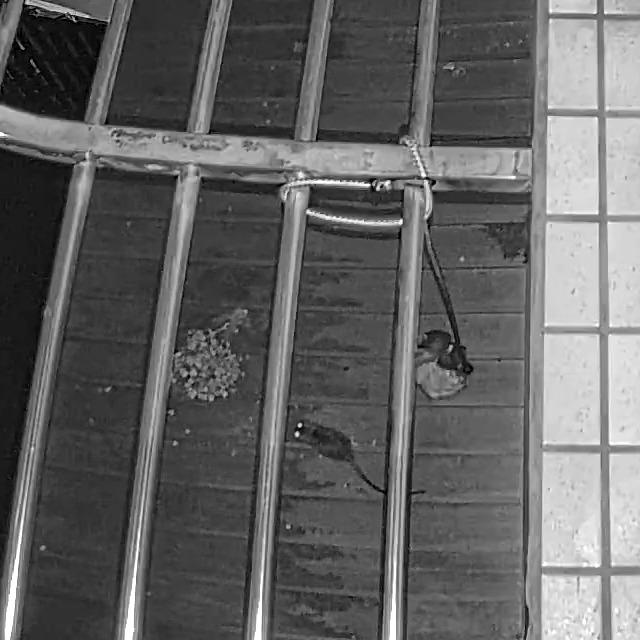rat: (291, 420, 426, 496)
